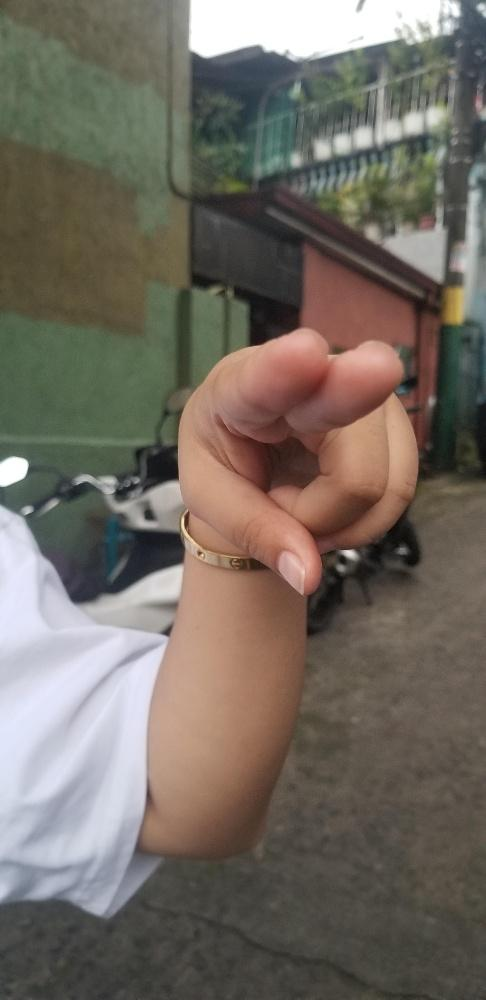n: (175, 324, 421, 596)
